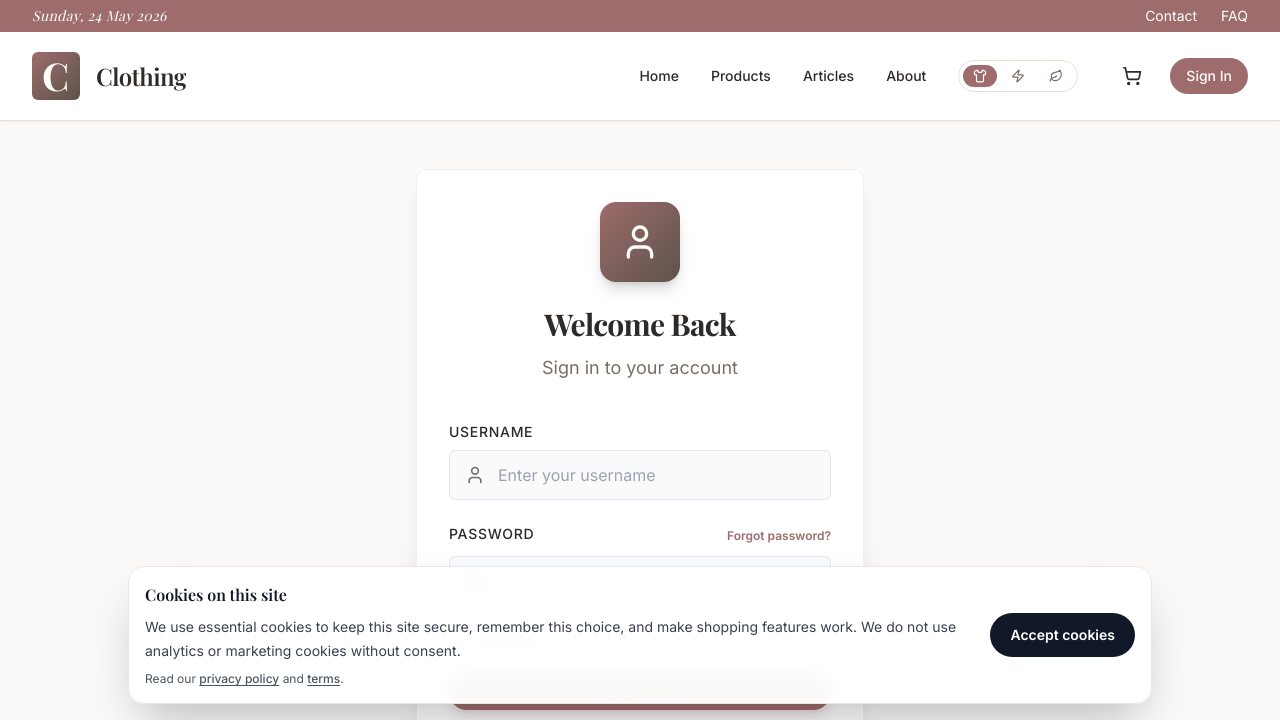
it: Login › shows inline error banner and toast when login fails
This screenshot has width=1280, height=720.
Step 1. Type "nobody@test.com" into the field with test id "login-username" → (640, 475), box top-left (449, 450), bottom-right (831, 500)
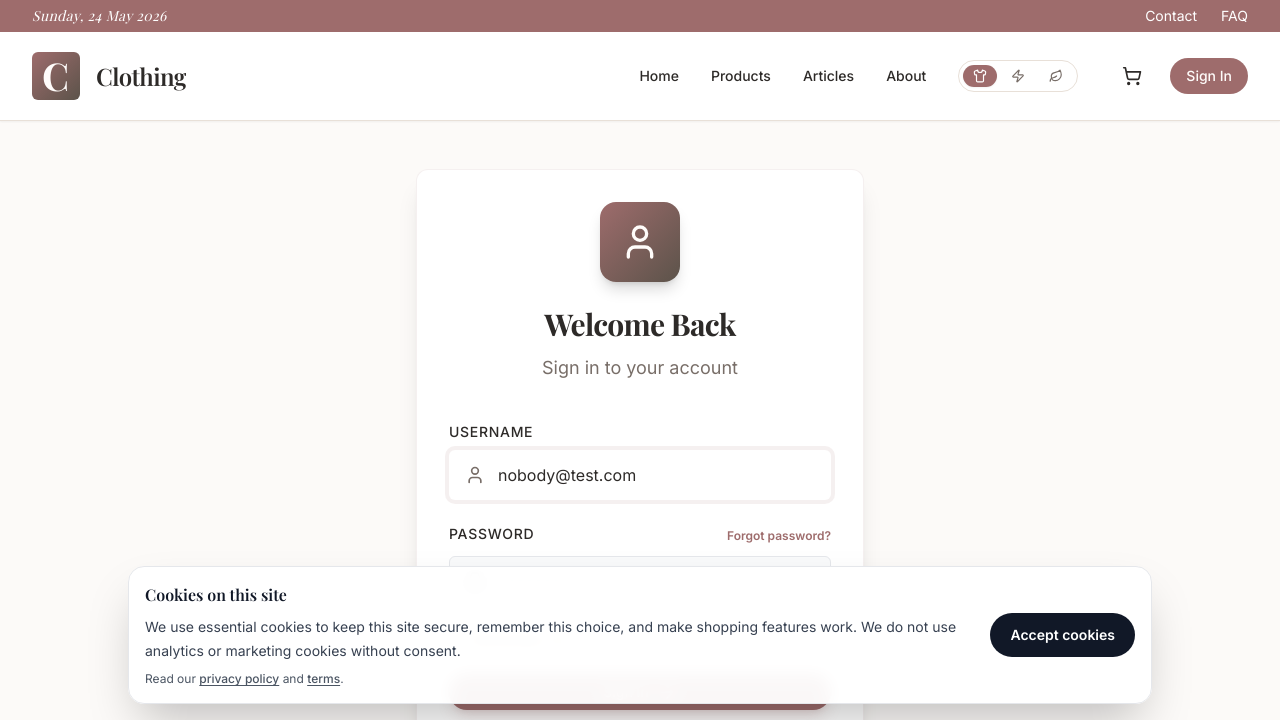
Step 2. Scroll
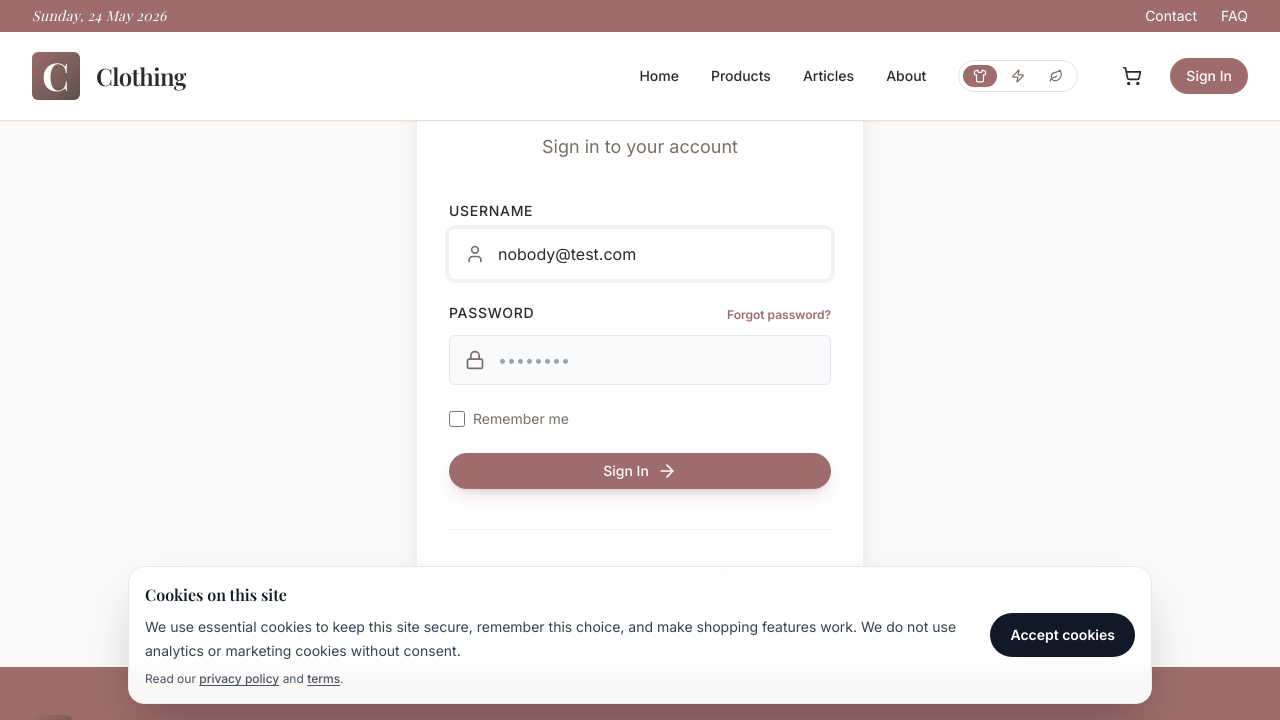
Step 3. Type "wrong-password" into the password field with test id "login-password" → (640, 360), box top-left (449, 335), bottom-right (831, 385)
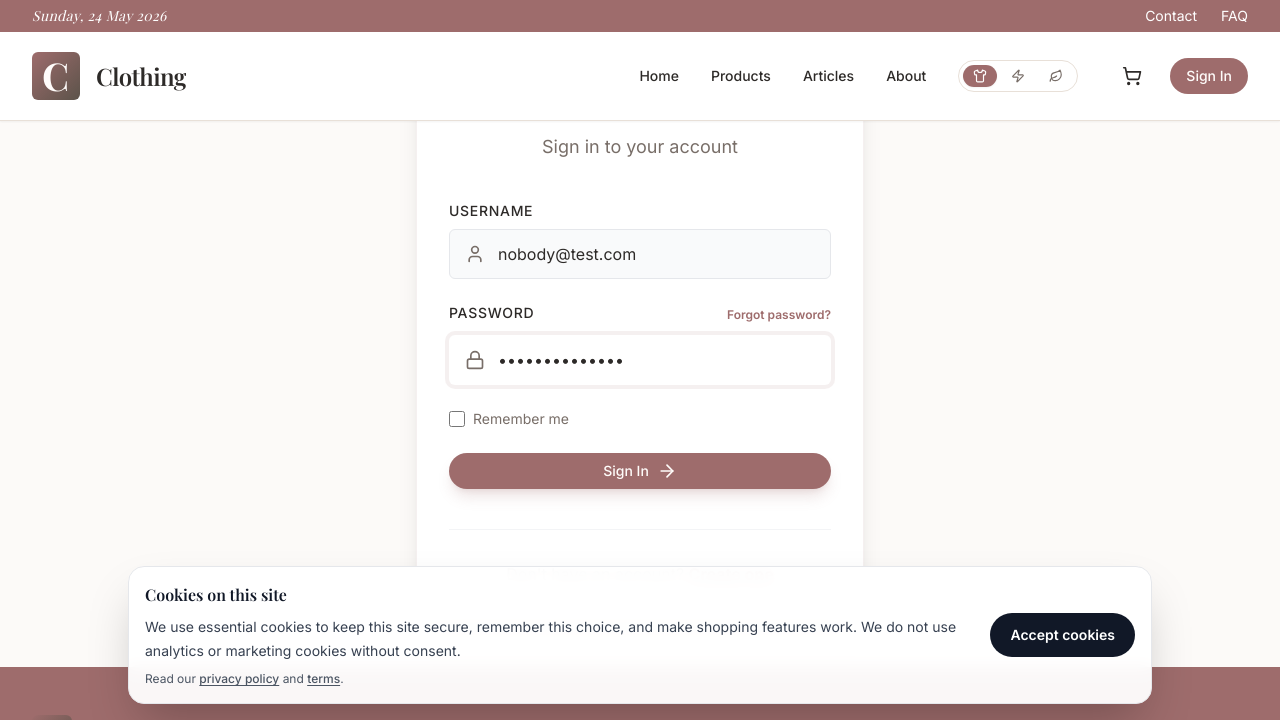
Step 4. Click the button with test id "login-submit" → (640, 471), box top-left (449, 453), bottom-right (831, 489)
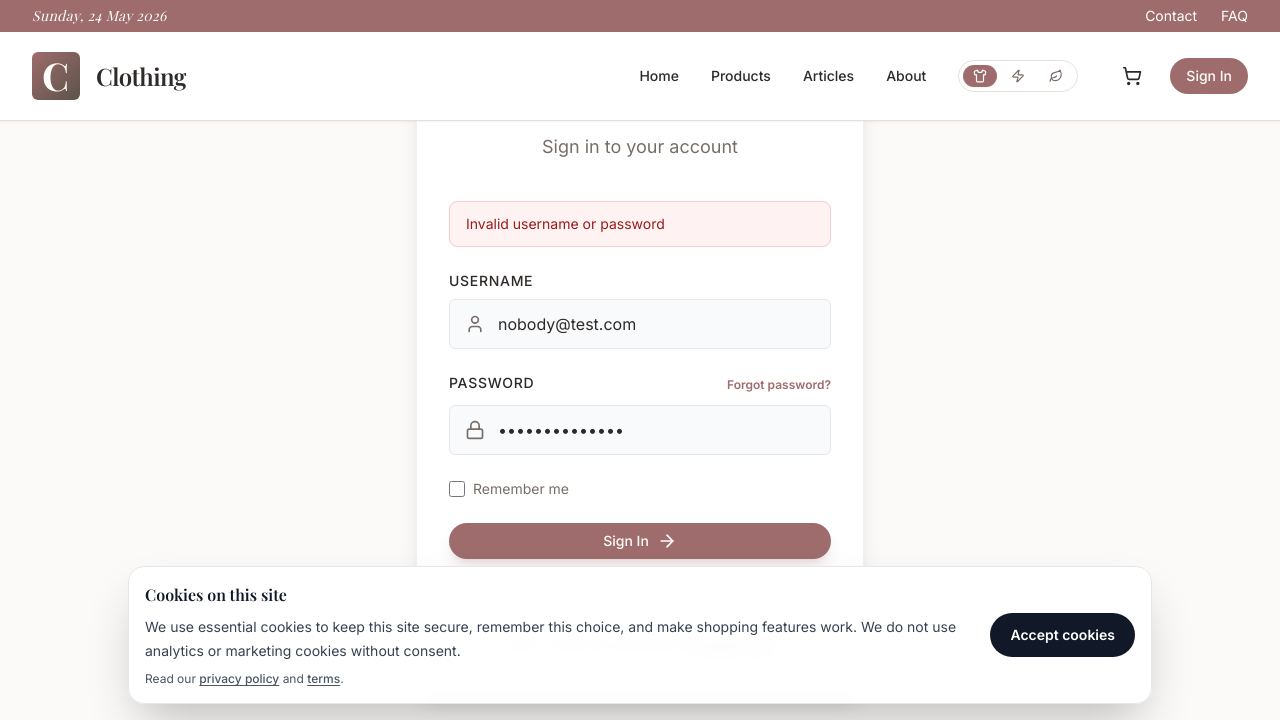
Expected: the message "Invalid username or password" is shown, top-left (449, 201), bottom-right (831, 247)
Expected: the message with test id "login-submit-error" shows "Invalid", top-left (466, 215), bottom-right (665, 232)
